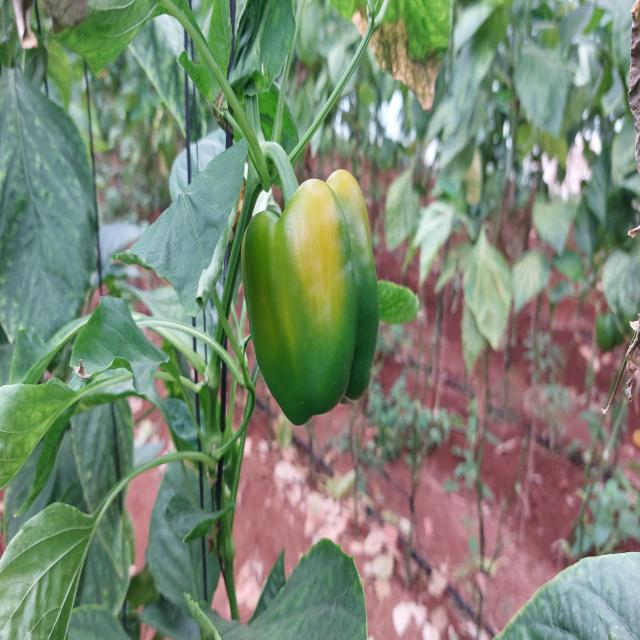GreenishYellow--Can-be-Harvested: (245, 170, 390, 432)
